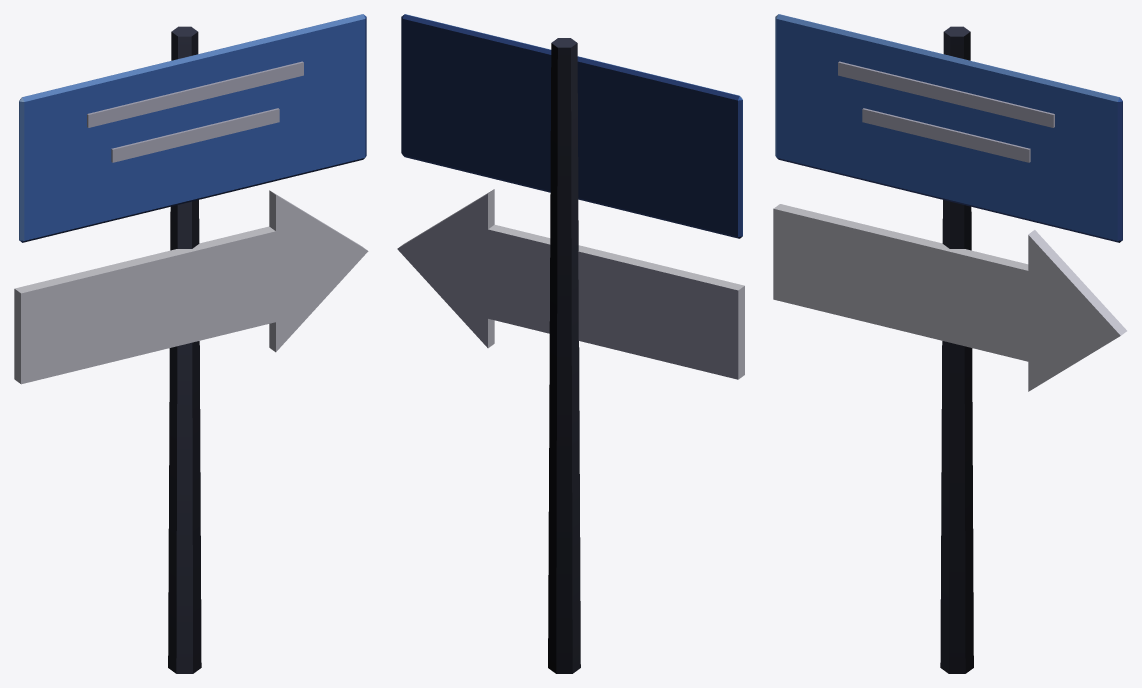
File: street_sign.glb
3 renders of one model, left to right at view 1: azimuth 30°, elevation 25°; view 2: azimuth 150°, elevation 25°; view 3: azimuth 330°, elevation 25°, orthographic.
Visible parts, largest first — view 1: street_sign; view 2: street_sign; view 3: street_sign.
Boxes of the visible parts, <box> form: street_sign: <box>14,14,368,673</box>; street_sign: <box>397,14,744,673</box>; street_sign: <box>773,14,1126,673</box>.
Size of the model in its own units: 0.6 by 1.05 by 0.059.
